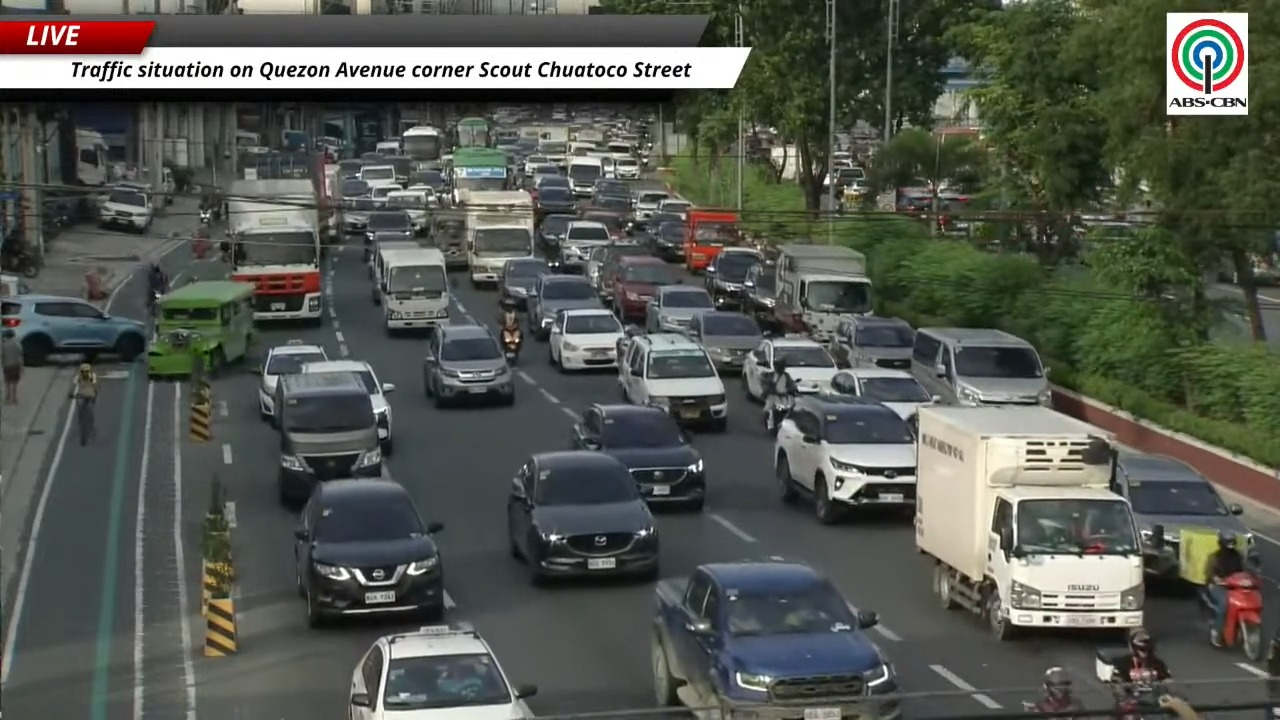bus: (450, 148, 510, 200), (401, 125, 443, 161), (454, 116, 493, 153)
car: (294, 478, 445, 627), (507, 450, 659, 583), (1112, 450, 1259, 577), (348, 623, 535, 719), (774, 396, 915, 523), (271, 372, 382, 507), (572, 404, 705, 511), (0, 294, 150, 365), (618, 334, 727, 431), (301, 359, 394, 455), (423, 324, 514, 407), (742, 335, 838, 399), (829, 366, 939, 418), (258, 341, 328, 421), (526, 275, 602, 340), (686, 311, 762, 373), (606, 256, 678, 321), (548, 308, 622, 370), (831, 316, 914, 370), (704, 247, 762, 308), (644, 285, 714, 332), (594, 243, 647, 303), (559, 220, 612, 272), (499, 257, 550, 308), (99, 186, 153, 232), (740, 261, 776, 327), (384, 189, 430, 234), (536, 214, 576, 265), (583, 243, 615, 301), (645, 220, 687, 262), (581, 206, 628, 241), (365, 210, 414, 242), (342, 196, 376, 233), (409, 169, 447, 200), (535, 187, 576, 215), (592, 178, 631, 205), (359, 156, 395, 184), (589, 194, 630, 215), (369, 183, 402, 209), (645, 210, 685, 231), (406, 184, 440, 207), (534, 171, 570, 192), (658, 197, 692, 219), (615, 157, 642, 180), (524, 154, 553, 175), (340, 177, 368, 197), (338, 159, 362, 181)
motorcycle: (1201, 572, 1265, 660), (1110, 671, 1168, 719), (763, 394, 794, 436), (2, 245, 41, 278), (1021, 700, 1074, 719), (501, 325, 522, 364), (147, 289, 161, 318), (199, 208, 213, 224)
truck: (914, 405, 1144, 640), (651, 560, 900, 719), (227, 179, 322, 324), (773, 243, 872, 344), (458, 190, 534, 285), (684, 208, 741, 273), (450, 147, 509, 201), (319, 164, 342, 243), (534, 125, 568, 167)
